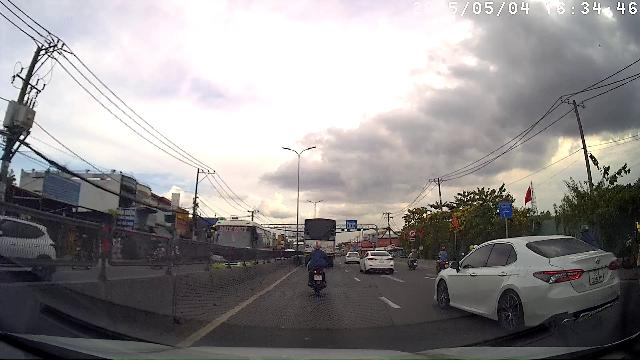123b-cam-re-phai: (408, 229, 416, 237)
